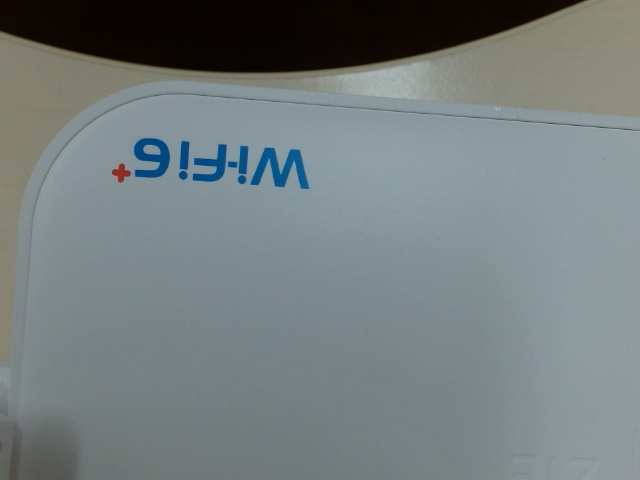AJ_ZTEWIFI6Plus: (101, 126, 329, 203)
